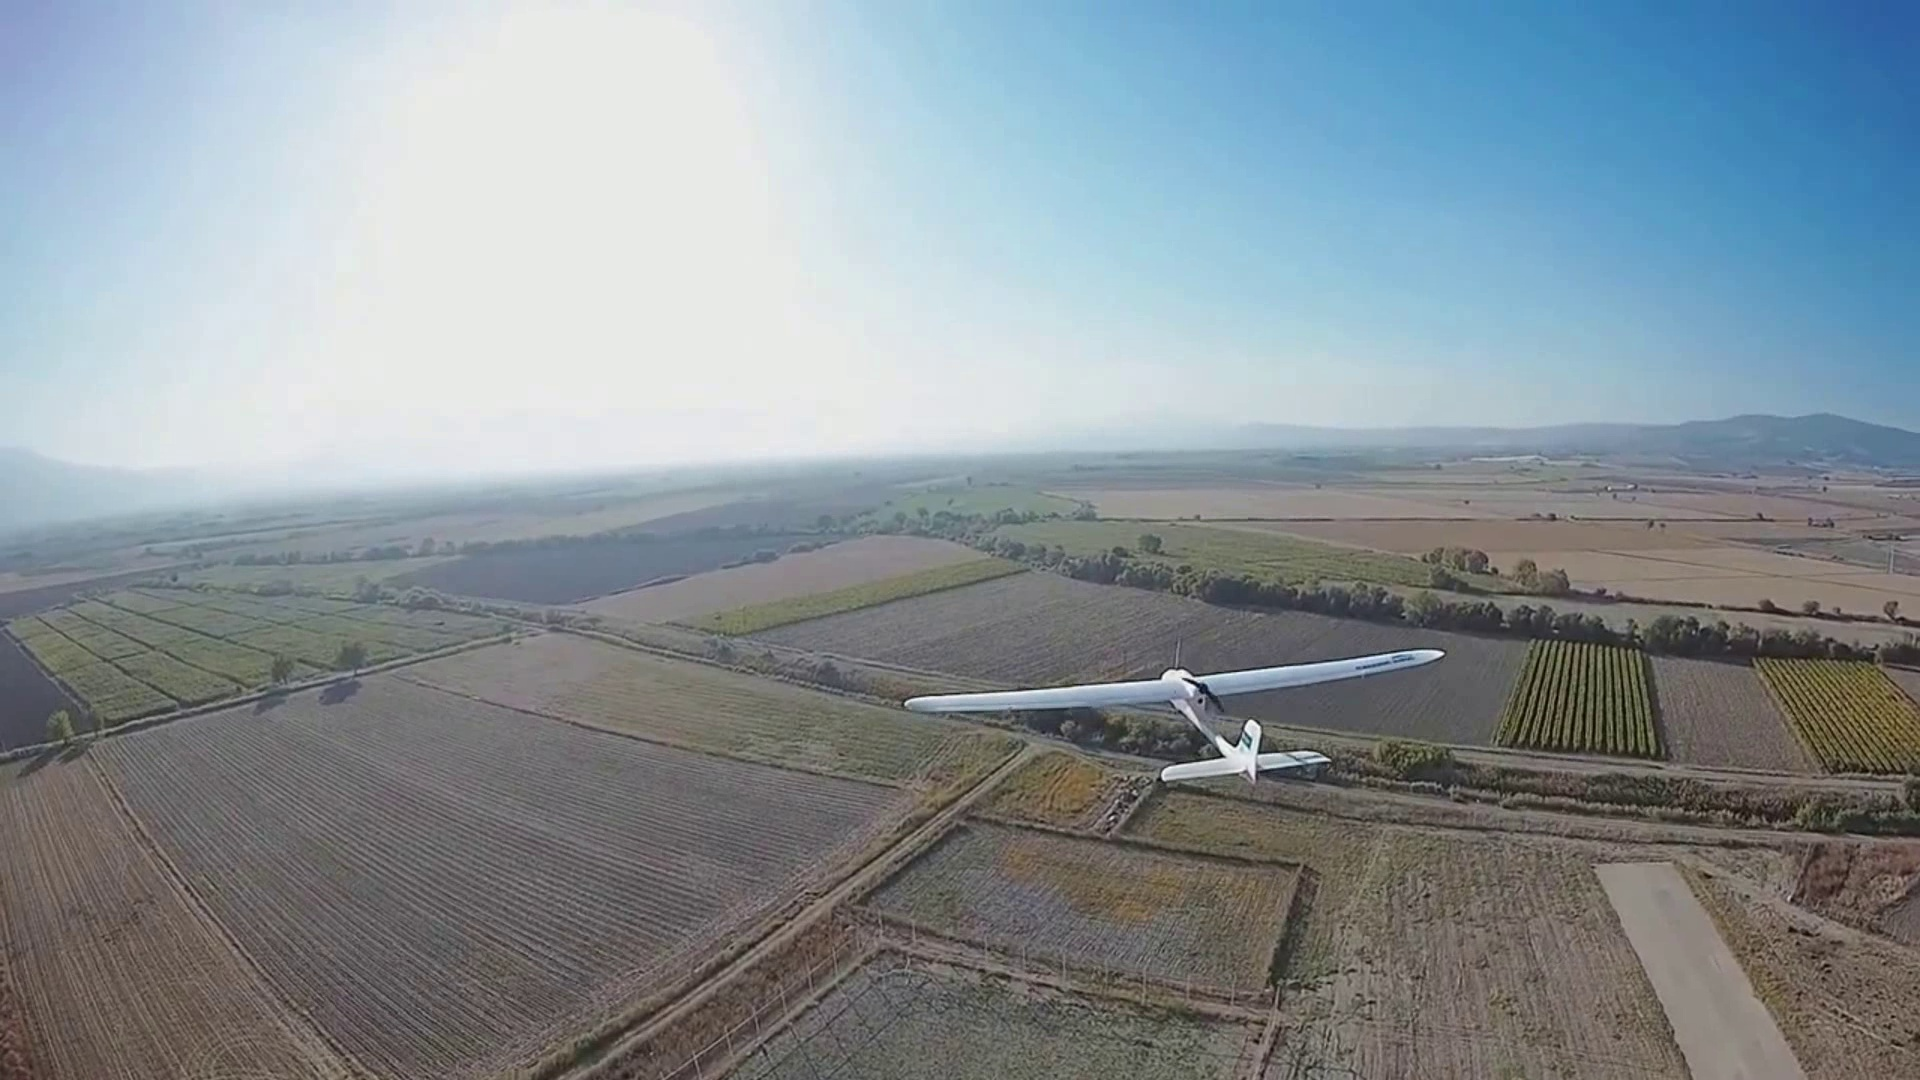airplane: (893, 645, 1447, 786)
